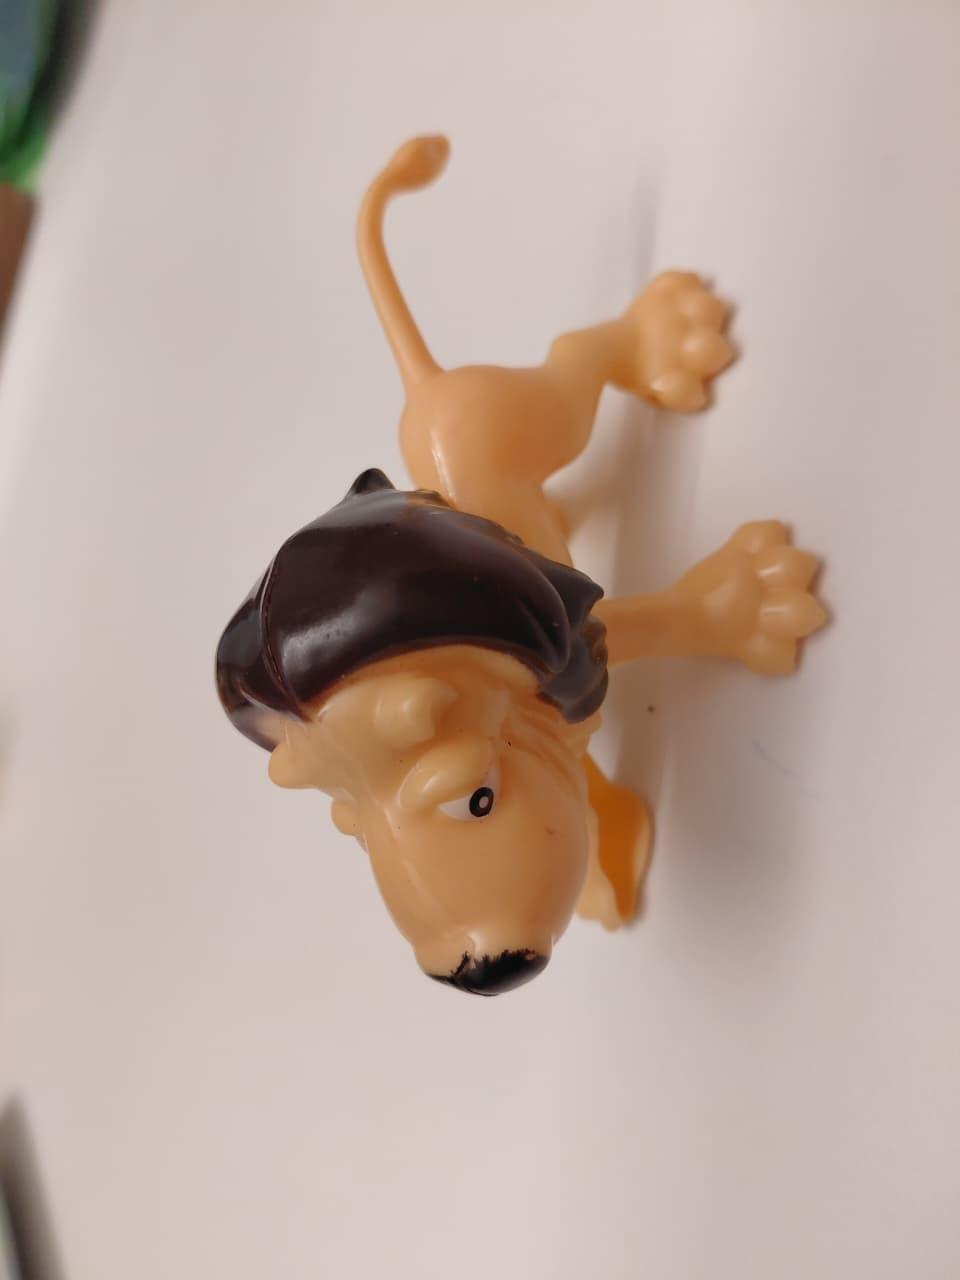lion: (210, 128, 836, 1041)
